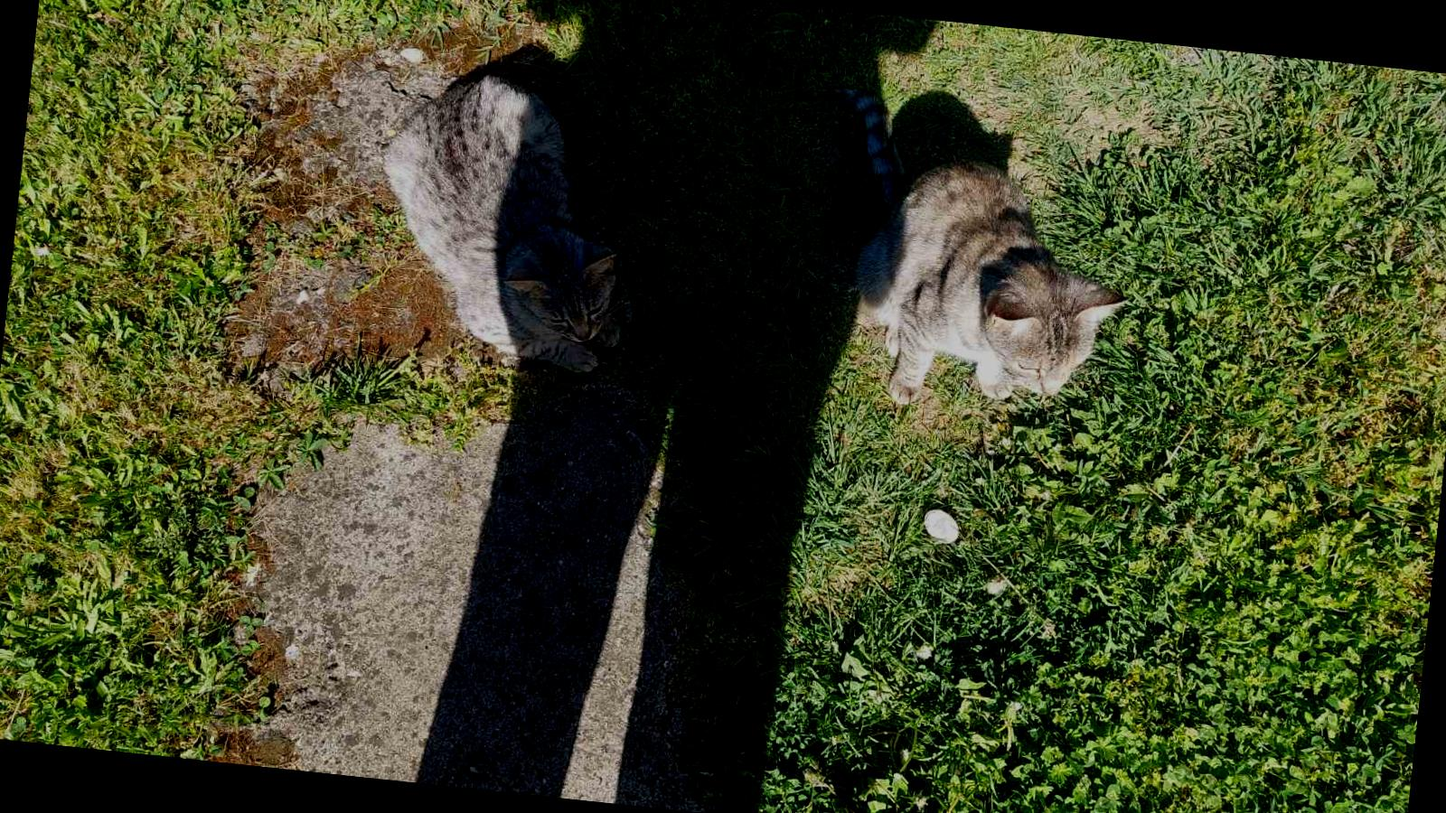macka: (798, 87, 1140, 430), (364, 65, 647, 376)
